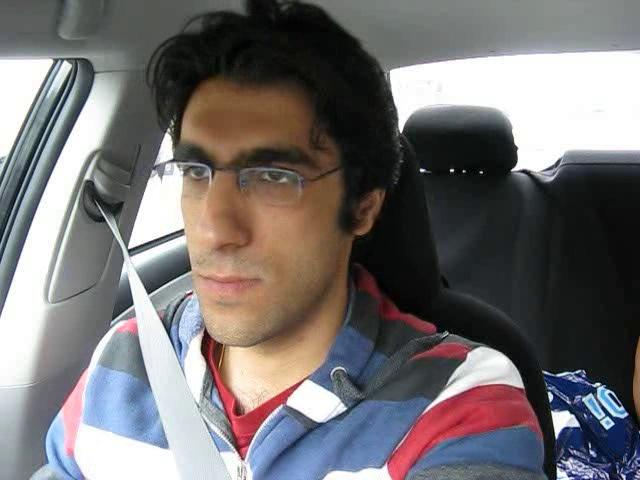no_yawn: (181, 259, 275, 310)
open_eyeL: (169, 155, 218, 192)
open_eyeR: (238, 155, 317, 199)
